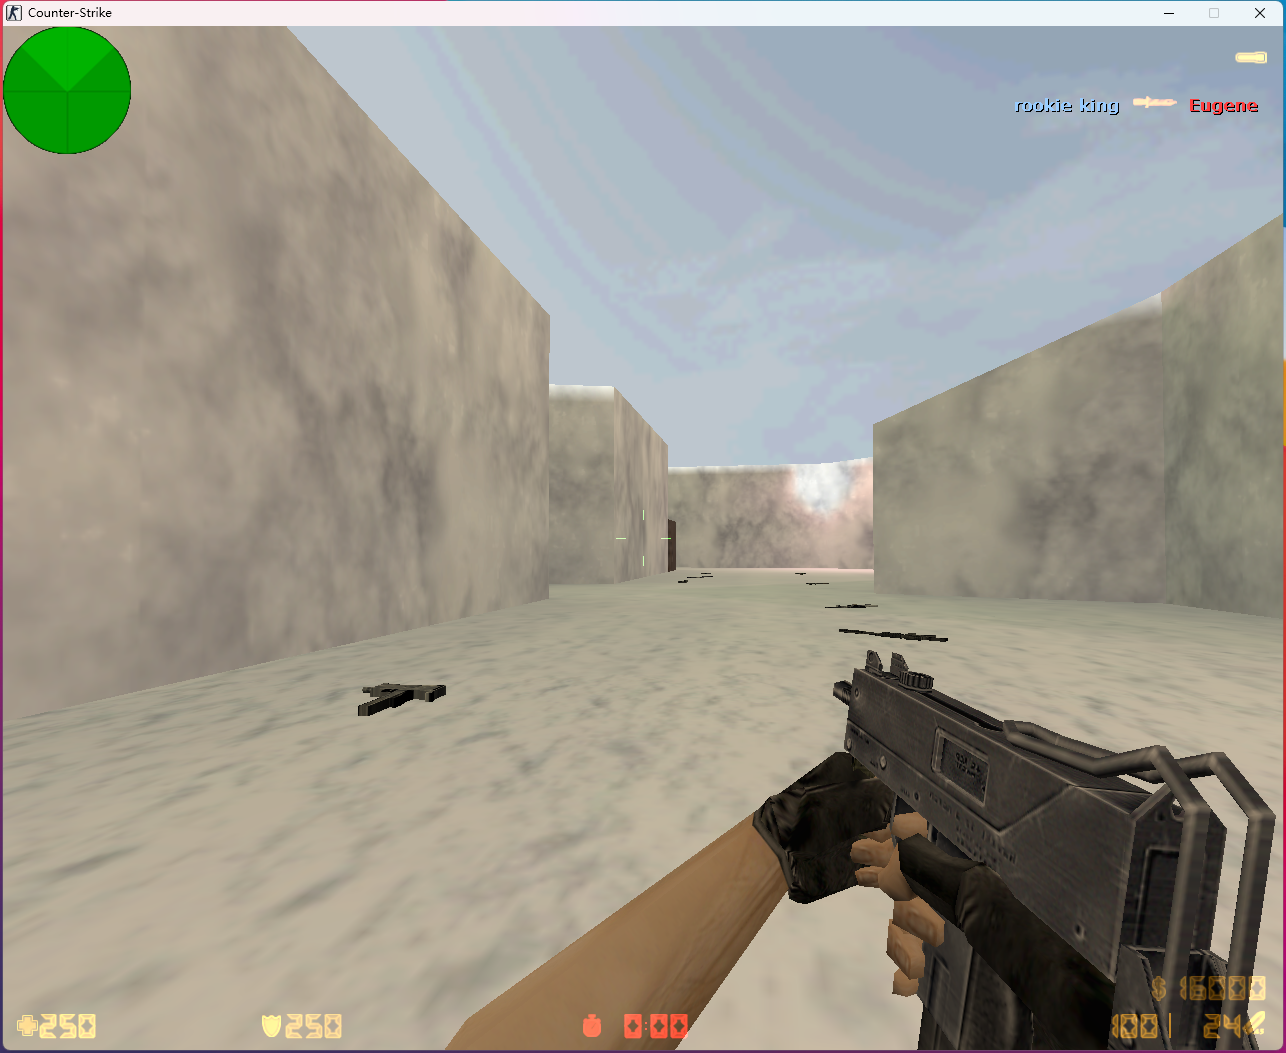weapon: (354, 678, 446, 718), (835, 623, 948, 645), (819, 603, 880, 610), (683, 573, 717, 580), (803, 581, 829, 586), (672, 578, 689, 585)
